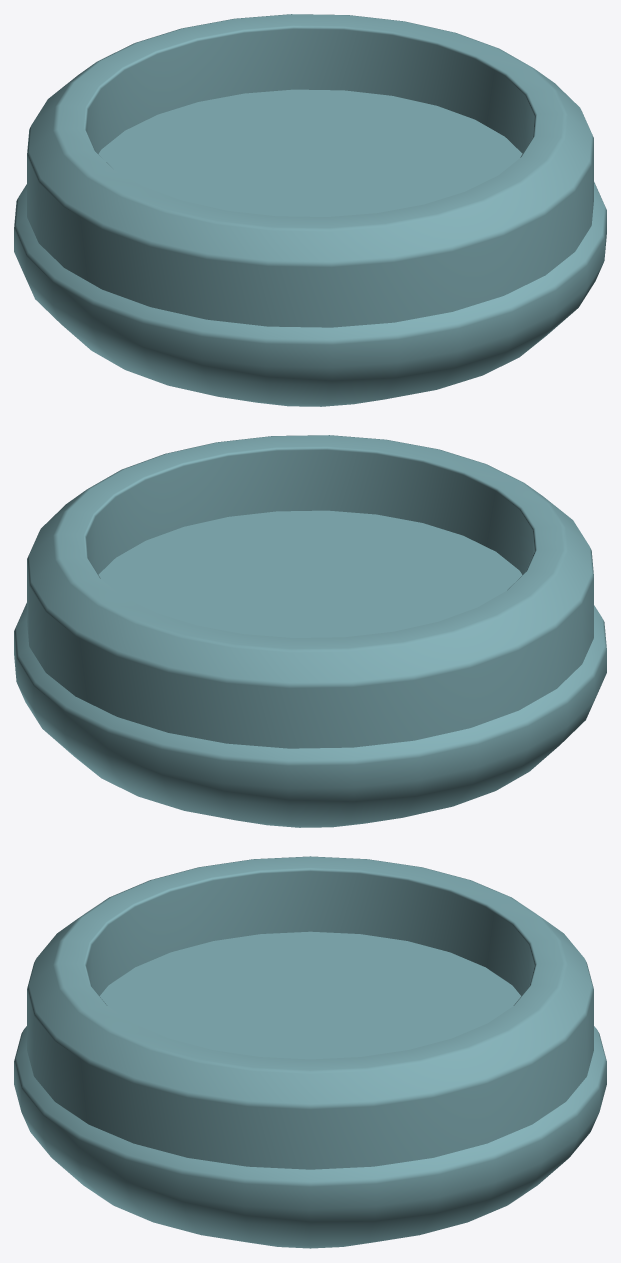
File: table_drum_place.fbx
3 views of the same model, one above another, from view 1: azimuth 30°, elevation 25°; view 2: azimuth 150°, elevation 25°; view 3: azimuth 270°, elevation 25° (orthographic).
Visible parts, largest first — view 1: table_drum_place; view 2: table_drum_place; view 3: table_drum_place.
Boxes of the visible parts, bbox=[...] form: table_drum_place: bbox=[14, 14, 606, 406]; table_drum_place: bbox=[14, 435, 606, 827]; table_drum_place: bbox=[14, 856, 606, 1248].
Size of the model in its own units: 225 by 93.42 by 225.
